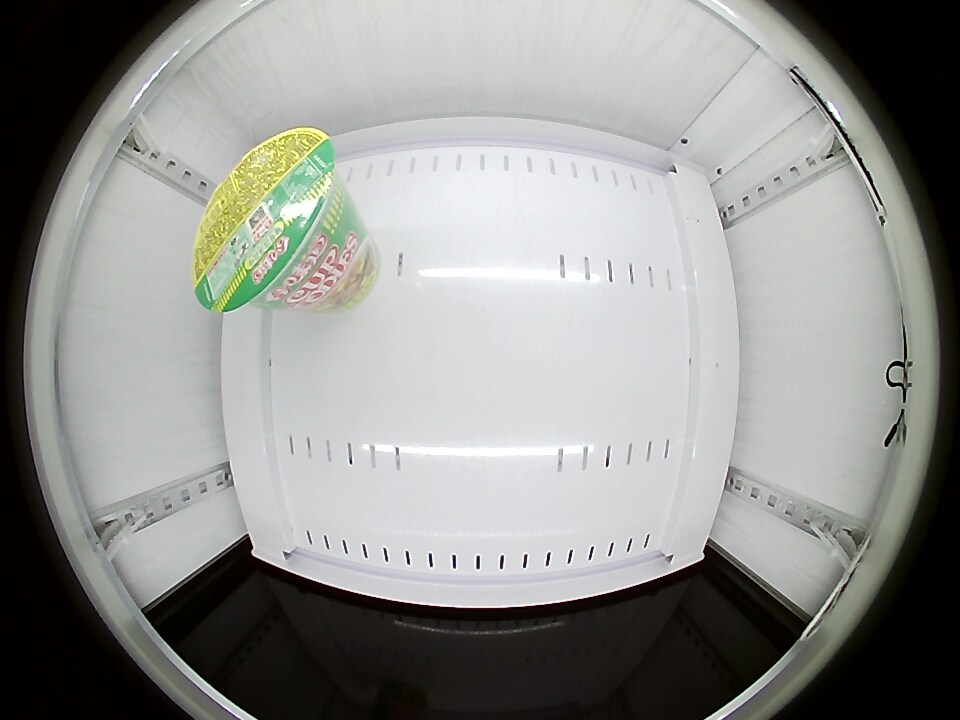heweidao2: (193, 126, 342, 313)
